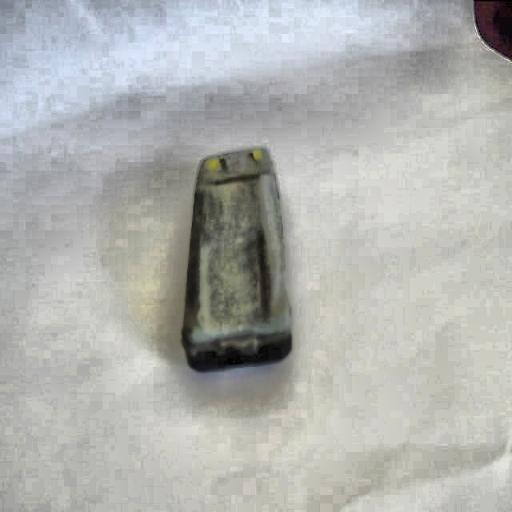normal_car: (178, 145, 297, 376)
